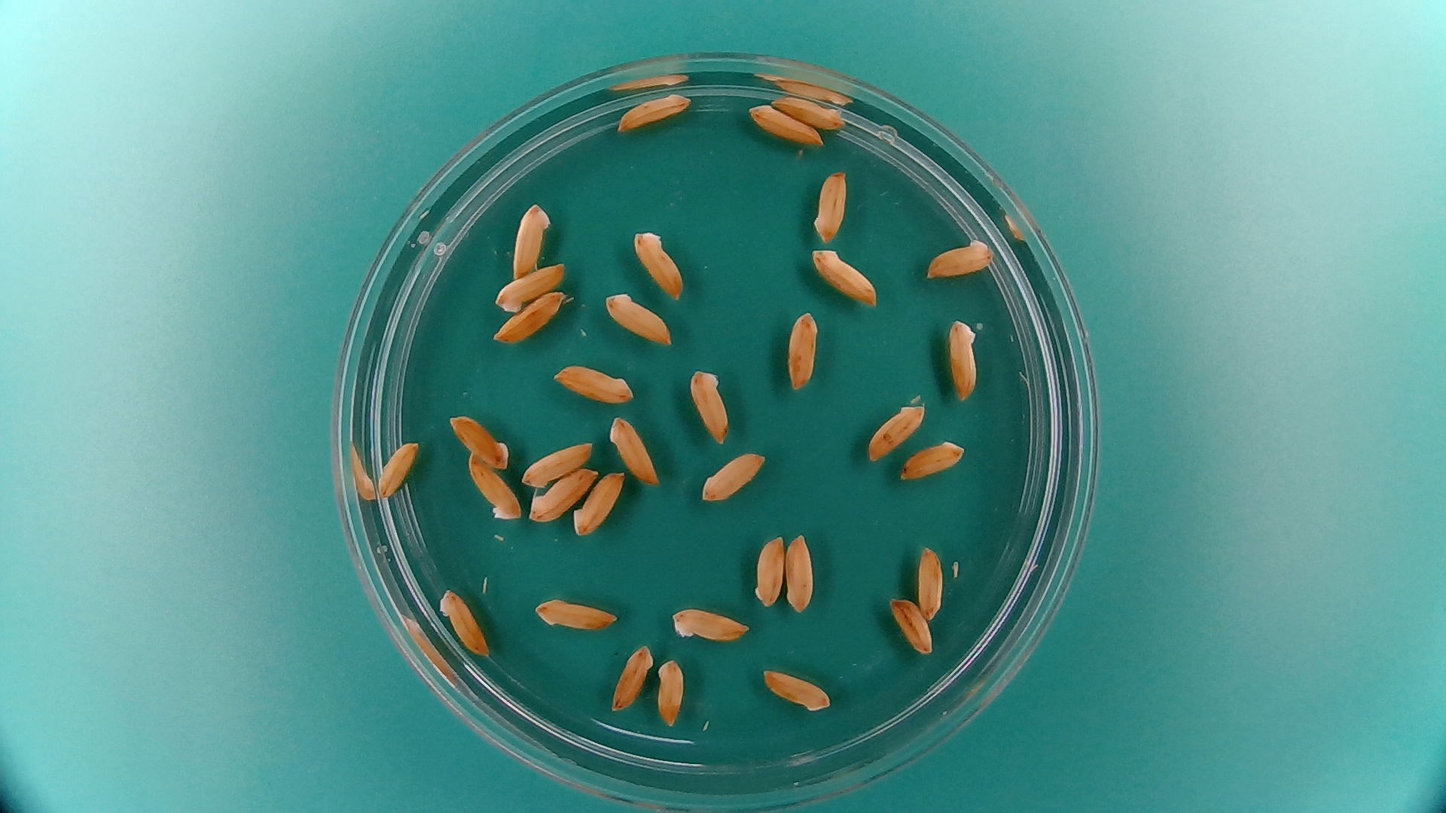no: (808, 245, 881, 309), (600, 289, 676, 349), (526, 464, 601, 524), (630, 224, 688, 301), (606, 413, 662, 490), (863, 398, 928, 464), (436, 584, 491, 660), (464, 453, 522, 525), (492, 291, 567, 346), (519, 436, 596, 489), (572, 467, 628, 539), (698, 448, 769, 503), (446, 410, 511, 470), (550, 360, 637, 404), (745, 99, 823, 147), (687, 362, 731, 447), (759, 664, 833, 713), (509, 199, 553, 281), (496, 260, 566, 311), (666, 603, 752, 644), (923, 233, 996, 281), (530, 594, 619, 633), (946, 313, 984, 403), (608, 640, 654, 714), (615, 89, 694, 132), (898, 438, 968, 483), (811, 167, 850, 245), (886, 594, 935, 656), (376, 436, 421, 502), (782, 528, 816, 615), (785, 309, 820, 391), (751, 530, 786, 611), (770, 95, 847, 131), (915, 542, 947, 621), (654, 654, 685, 727)
